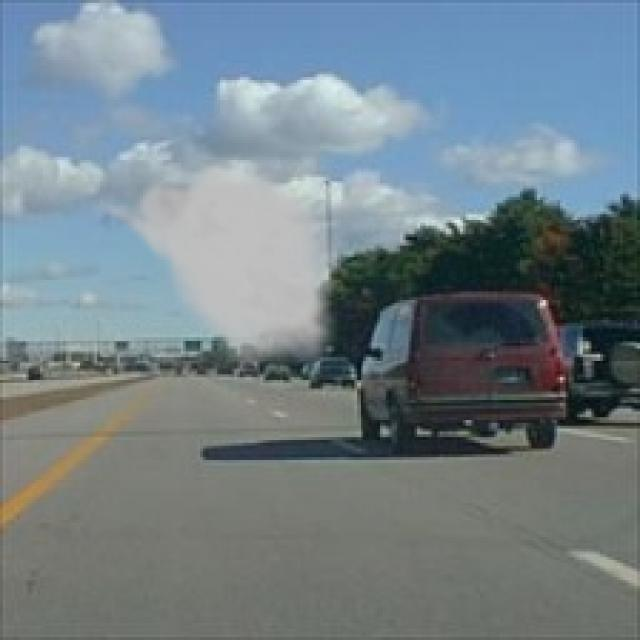Smoke: (85, 154, 348, 377)
